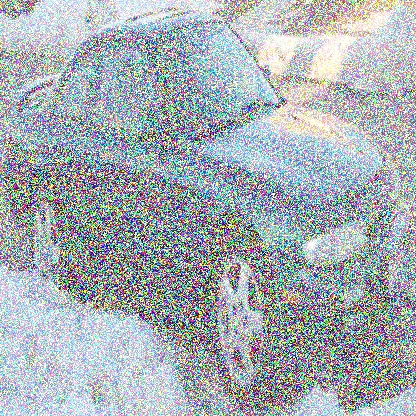Vehicle: (2, 10, 412, 406)
